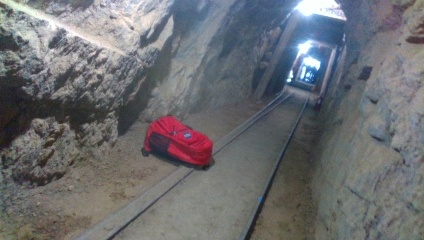backpack: (138, 113, 215, 173)
fire_extinguisher: (315, 95, 322, 111)
manikin: (285, 63, 300, 91)
